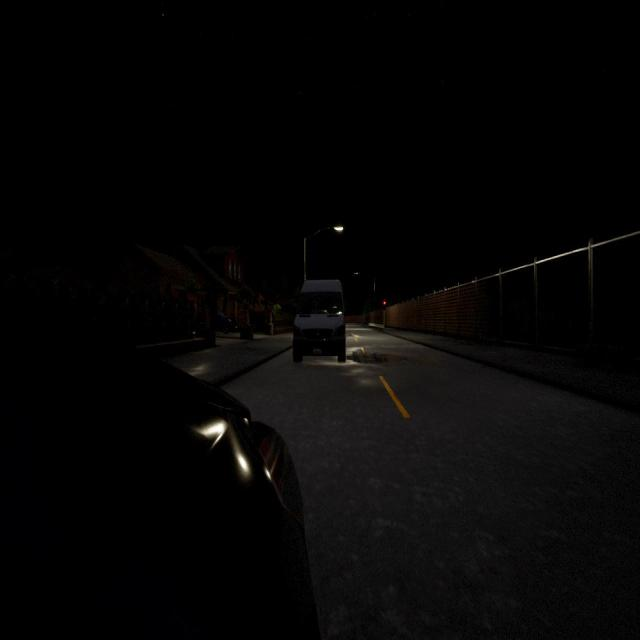Vehicle: (0, 339, 318, 637), (290, 281, 347, 364), (218, 310, 238, 335)
traffic_light: (382, 300, 386, 310)
